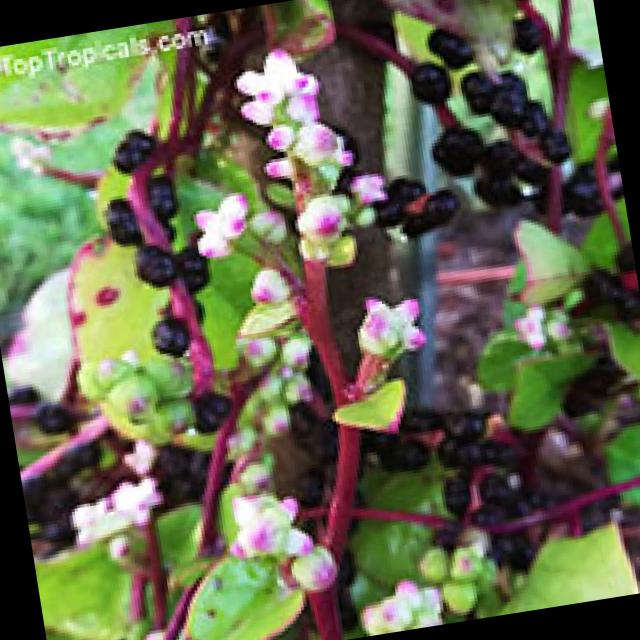Medicinal-Basale: (53, 0, 640, 620)
